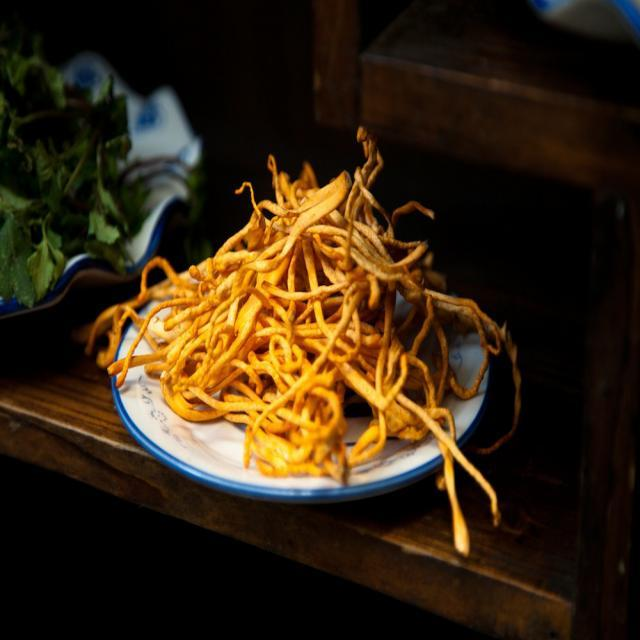Cordyceps militaris: (87, 155, 516, 549)
